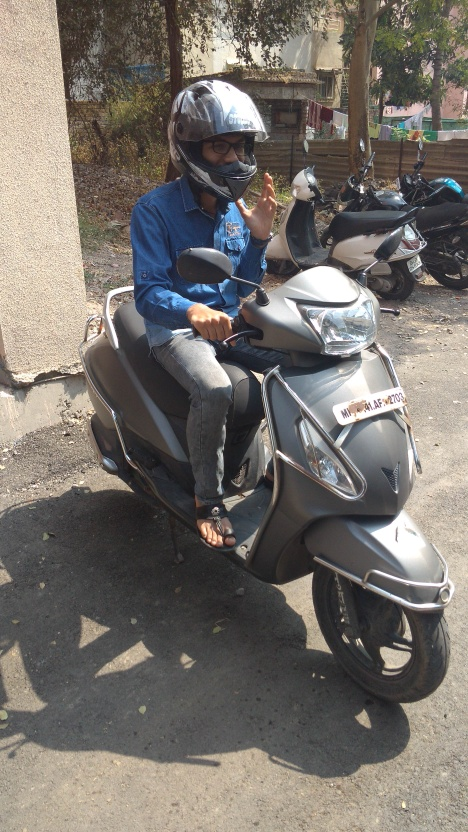helmet: (158, 77, 272, 205)
